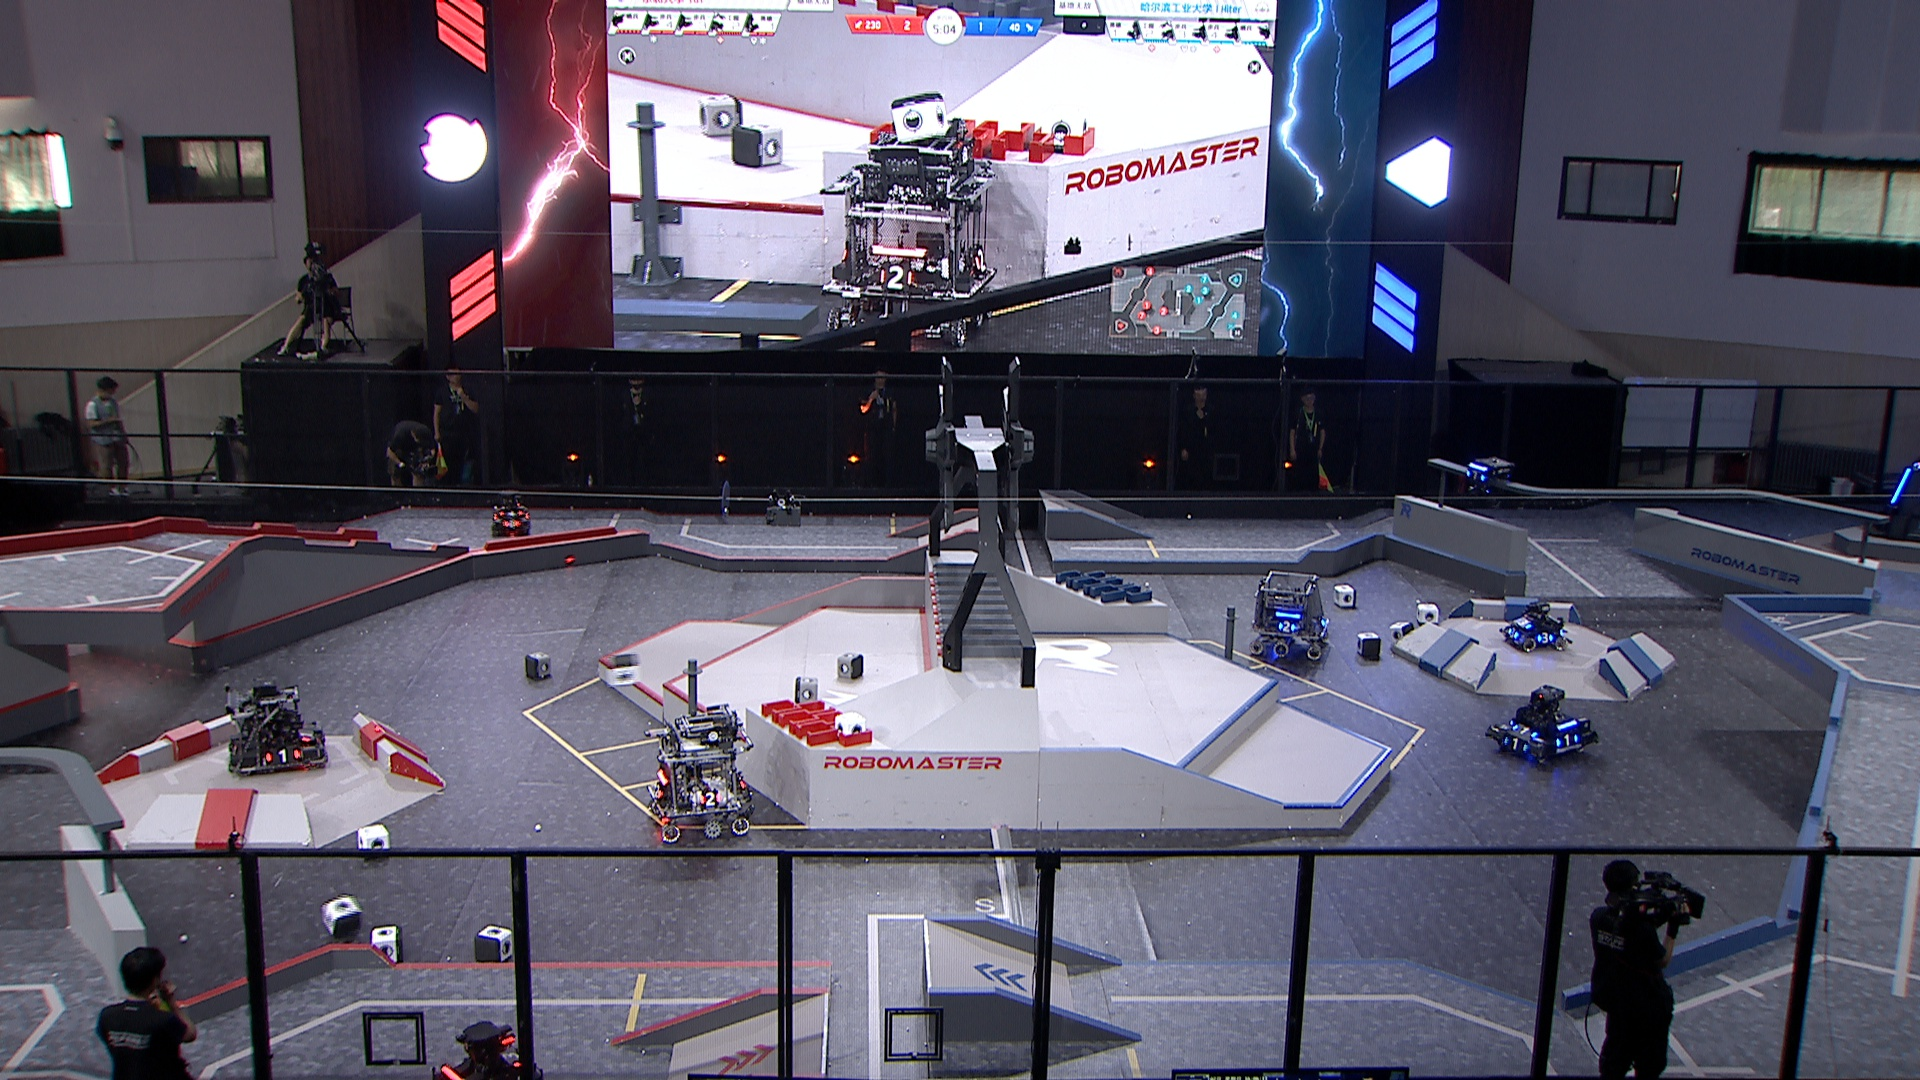armor: (1888, 467, 1911, 505), (264, 746, 301, 765), (496, 1044, 524, 1065), (1513, 721, 1536, 738), (1503, 736, 1528, 750), (1557, 735, 1578, 750), (698, 793, 721, 804), (1534, 632, 1555, 645), (1276, 618, 1296, 632), (1466, 467, 1482, 483), (651, 782, 666, 799), (1505, 626, 1522, 641), (301, 727, 314, 745), (315, 735, 330, 750), (1516, 617, 1534, 629), (501, 518, 520, 529), (500, 509, 520, 518)
base: (1866, 454, 1920, 542)
car: (644, 703, 756, 840), (222, 671, 332, 775), (1484, 683, 1598, 766), (1247, 562, 1329, 666), (430, 1017, 545, 1080), (1501, 597, 1567, 657), (487, 493, 537, 541)
ignore: (818, 135, 992, 348)
watcher: (1461, 456, 1513, 509)
